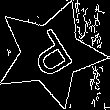P_SE: (21, 22, 80, 85)
